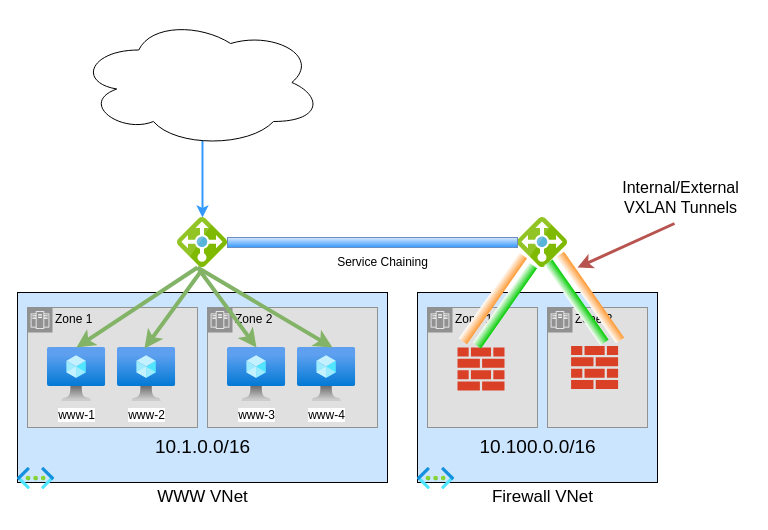
The diagram is 768 pixels wide and 530 high, and some of its shapes have lost their labels. Each missing label, with the box of its shape:
fw-1: (457, 347, 504, 390)
fw-2: (571, 346, 618, 388)
Internet: (76, 16, 322, 148)
